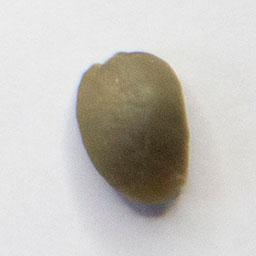peaberry: (72, 47, 193, 208)
